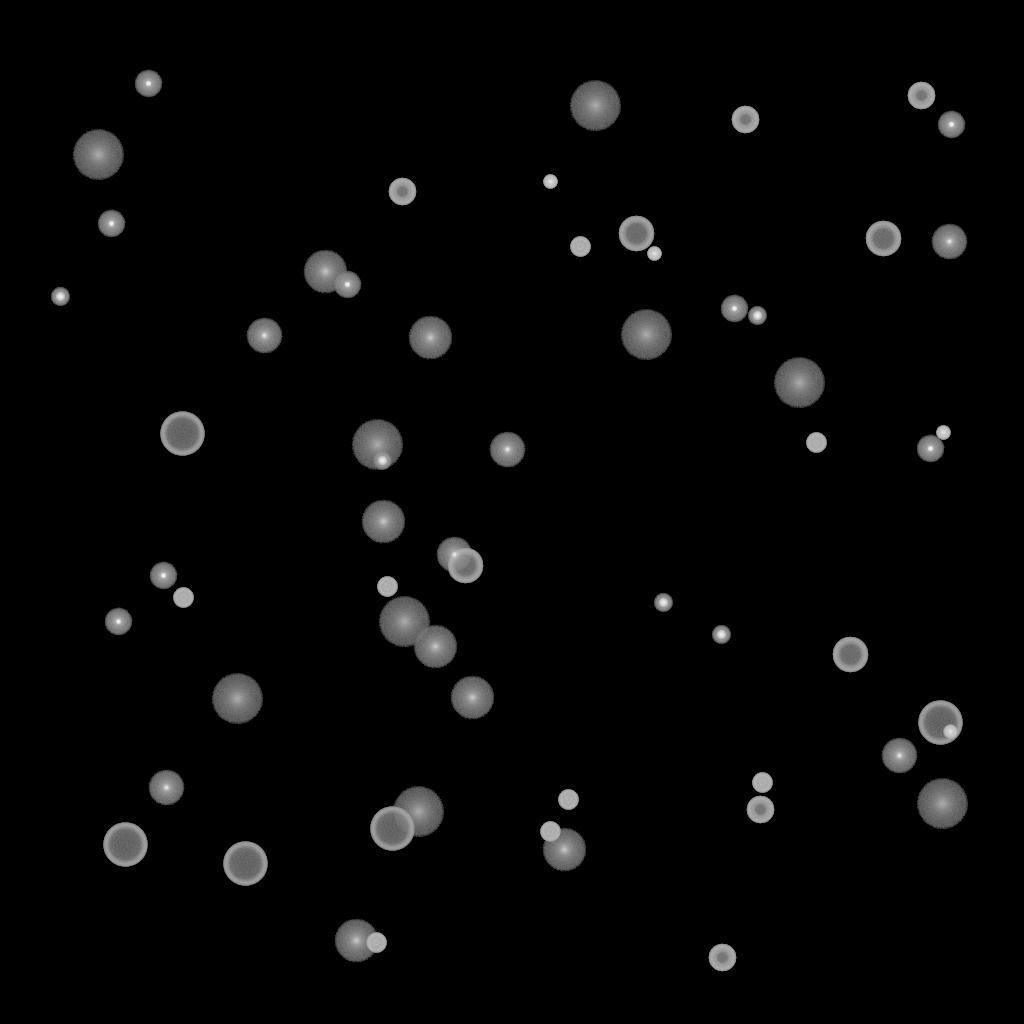depth:-10: (97, 210, 125, 238), (134, 70, 162, 98), (720, 295, 748, 323), (149, 562, 177, 590), (916, 435, 944, 463), (333, 271, 361, 299), (104, 608, 132, 636), (937, 111, 965, 139)
depth:-20: (51, 288, 69, 306), (373, 452, 391, 470), (654, 594, 672, 612), (712, 626, 730, 644), (748, 307, 766, 325)
depth:-30: (543, 175, 557, 189), (936, 426, 950, 440), (943, 725, 957, 739), (647, 247, 661, 261)
depth:-40: (377, 577, 397, 597), (540, 822, 560, 842), (806, 433, 826, 453), (173, 588, 193, 608), (570, 237, 590, 257), (366, 933, 386, 953), (558, 790, 578, 810), (752, 773, 772, 793)
depth:-50: (746, 796, 774, 824), (708, 944, 736, 972), (388, 178, 416, 206), (731, 106, 759, 134), (907, 82, 935, 110)
depth:-60: (832, 637, 868, 673), (865, 221, 901, 257), (447, 548, 483, 584), (618, 216, 654, 252)
depth:-70: (370, 807, 414, 851), (918, 701, 962, 745), (223, 842, 267, 886), (160, 412, 204, 456), (103, 823, 147, 867)
depth:0: (931, 224, 967, 260), (246, 318, 282, 354), (436, 537, 472, 573), (148, 770, 184, 806), (489, 432, 525, 468), (881, 738, 917, 774)
depth:10: (334, 919, 378, 963), (303, 250, 347, 294), (361, 500, 405, 544), (542, 828, 586, 872), (413, 625, 457, 669), (408, 316, 452, 360), (450, 676, 494, 720)
depth:20: (211, 674, 263, 724), (620, 310, 672, 360), (378, 597, 430, 647), (72, 130, 124, 180), (392, 787, 444, 837), (351, 420, 403, 470), (916, 779, 968, 829), (569, 81, 621, 131), (773, 358, 825, 408)
